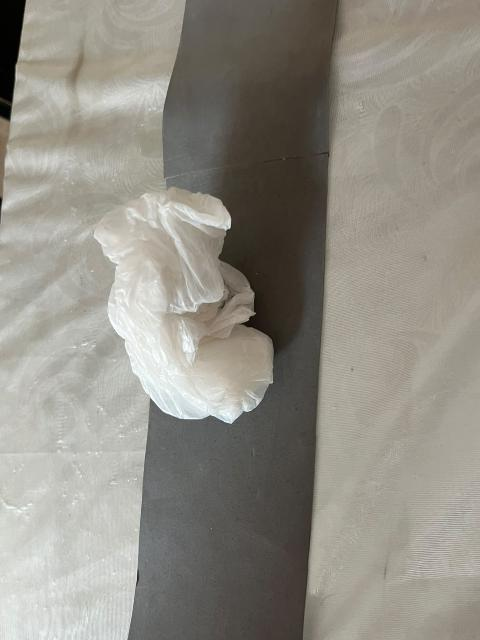LDPE: (44, 134, 335, 523)
